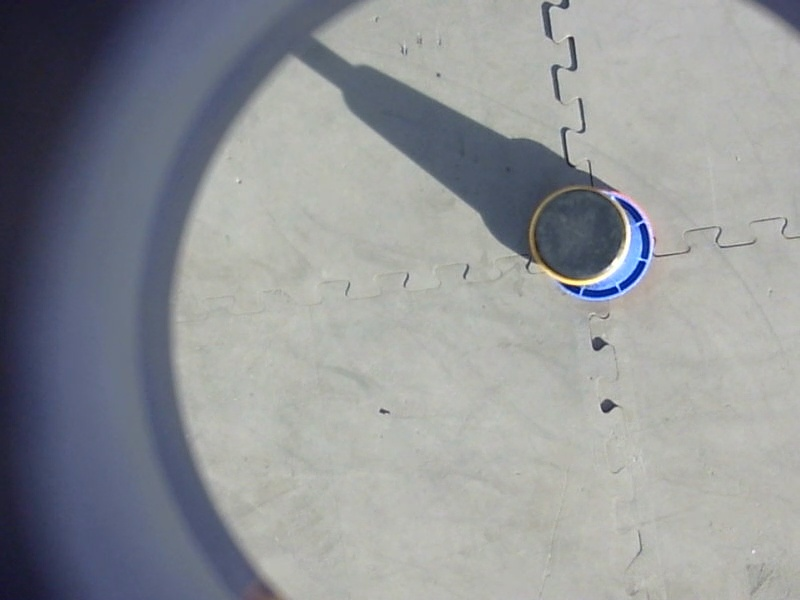tip: (517, 180, 641, 293)
